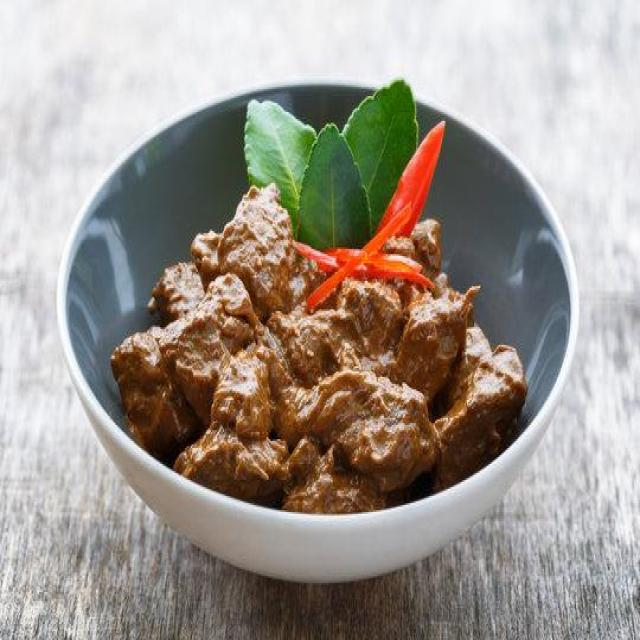Rendang: (97, 190, 550, 510)
